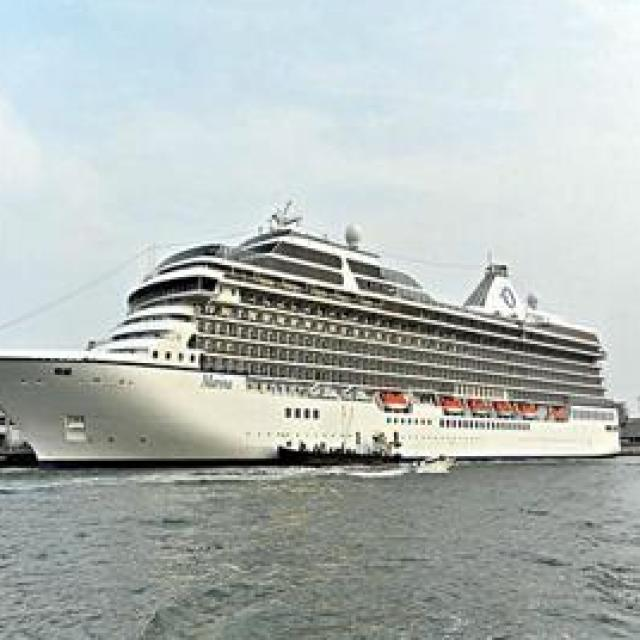passenger ship: (0, 213, 628, 468)
